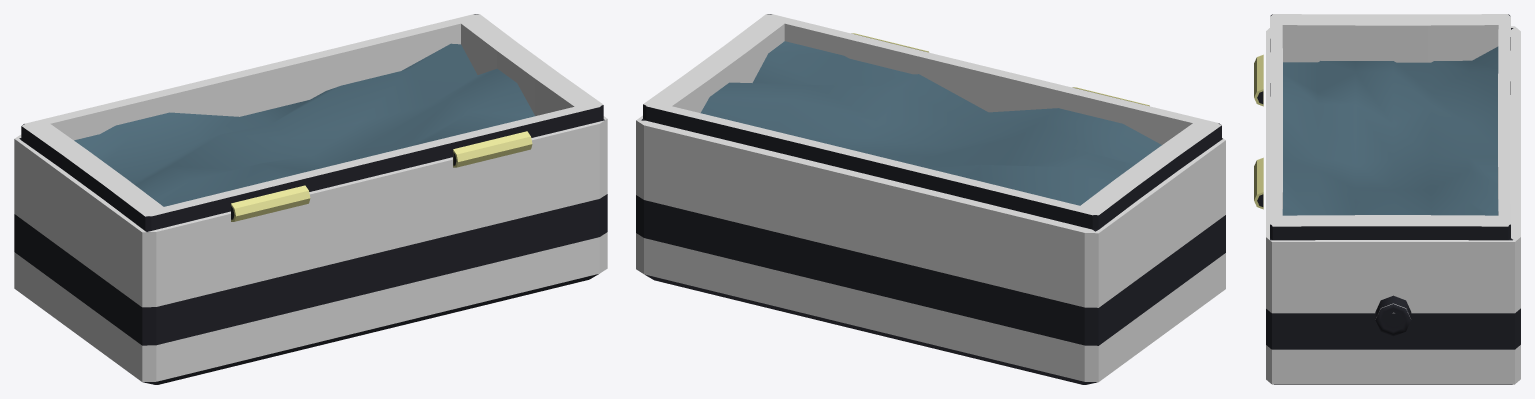
The model's file is CaixaMB.fbx.
3 views of the same model, side by side, from view 1: azimuth 30°, elevation 25°; view 2: azimuth 150°, elevation 25°; view 3: azimuth 270°, elevation 25° (orthographic). The views are drawn at different scales.
Parts seen in each view (by area): view 1: CaixaBaixo; view 2: CaixaBaixo; view 3: CaixaBaixo.
Boxes of the visible parts, x1,y1,x2,y2 form: CaixaBaixo: [14, 14, 607, 384]; CaixaBaixo: [636, 14, 1225, 384]; CaixaBaixo: [1254, 14, 1520, 384].
Bounding box in the file's own units: 41.58 × 14.15 × 20.93.
